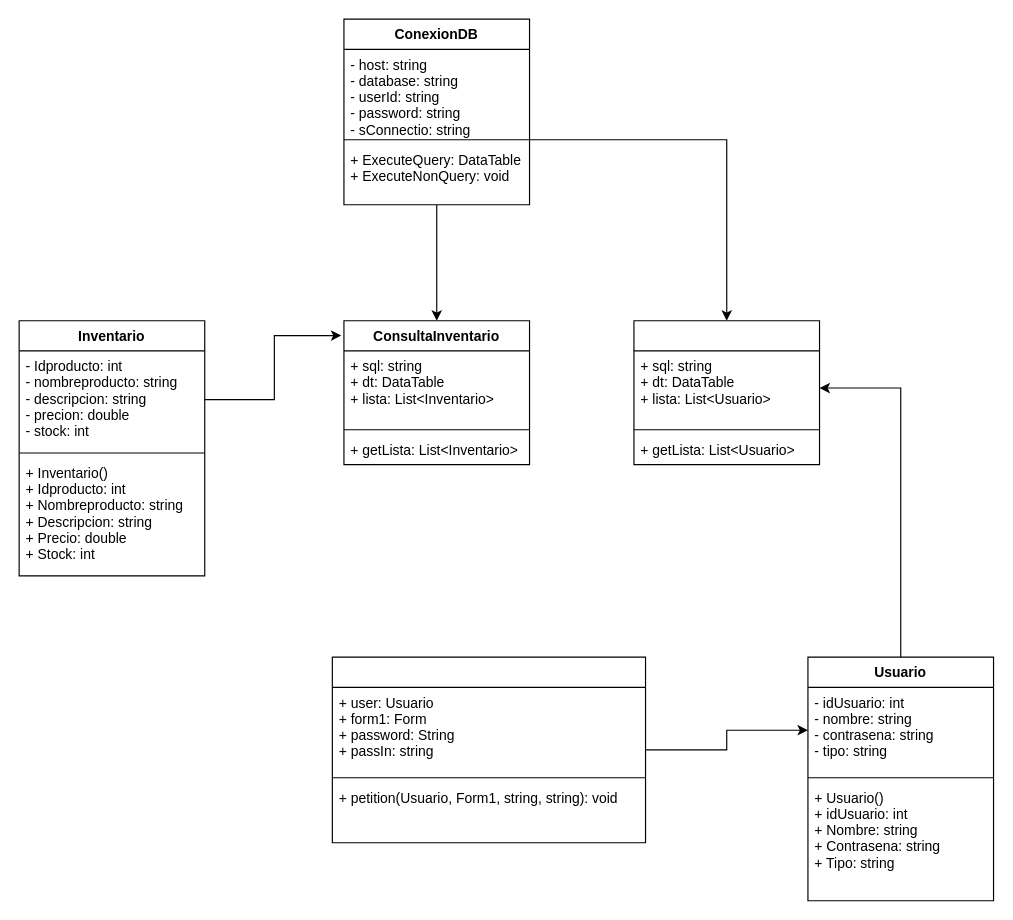
The diagram is 1013 pixels wide and 920 high, and some of its shapes have lost their labels. Here are the shapes that lost their labels. From the top down, the box of each, then its label:
(633, 320, 820, 465): ConsultaUsuario
(331, 656, 646, 843): Proxy
